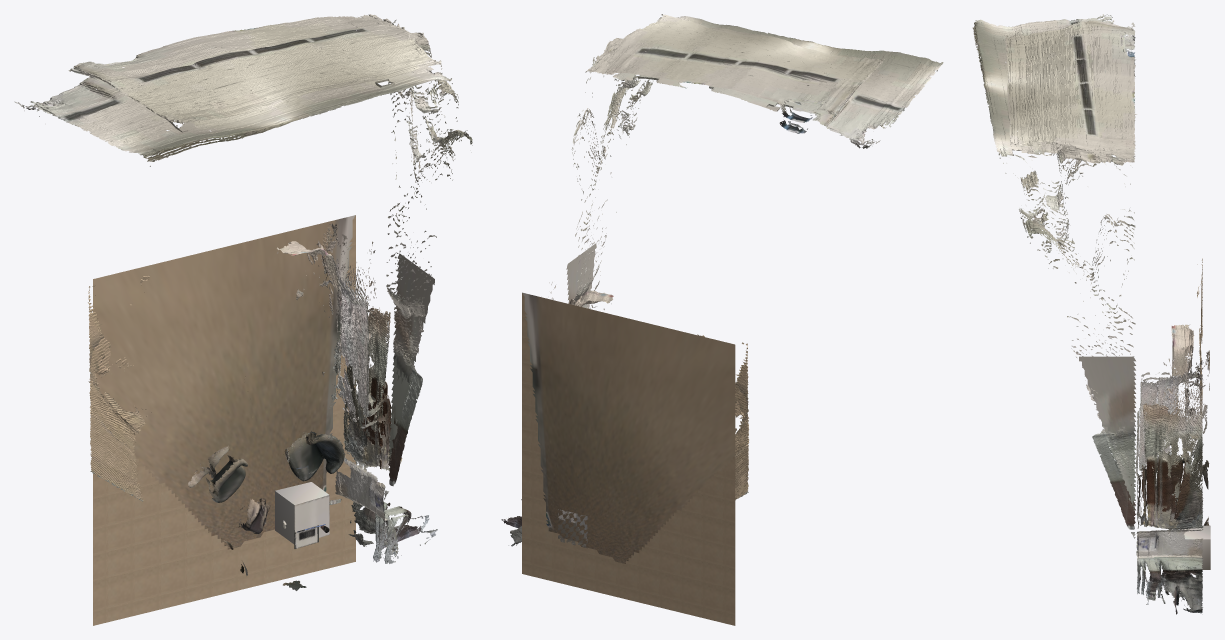
3 views of the same model, side by side, from view 1: azimuth 30°, elevation 25°; view 2: azimuth 150°, elevation 25°; view 3: azimuth 270°, elevation 25° (orthographic). The views are drawn at different scales.
Parts seen in each view (by area): view 1: background_surface, room_from_stills, table_surface, chair_right_surface, chair_left_surface, whiteboard_surface, backpack_surface; view 2: background_surface, room_from_stills, table_surface; view 3: room_from_stills, background_surface, whiteboard_surface, table_surface.
Boxes of the visible parts, left/top/right/bottom form: background_surface: left=88, top=215, right=437, bottom=625; room_from_stills: left=14, top=14, right=472, bottom=499; table_surface: left=275, top=482, right=329, bottom=544; chair_right_surface: left=288, top=431, right=344, bottom=481; chair_left_surface: left=188, top=445, right=247, bottom=502; whiteboard_surface: left=296, top=223, right=389, bottom=421; backpack_surface: left=238, top=498, right=270, bottom=533; background_surface: left=501, top=282, right=748, bottom=625; room_from_stills: left=566, top=14, right=943, bottom=308; table_surface: left=558, top=509, right=587, bottom=548; room_from_stills: left=972, top=14, right=1136, bottom=538; background_surface: left=1136, top=258, right=1203, bottom=614; whiteboard_surface: left=1141, top=350, right=1209, bottom=469; table_surface: left=1180, top=525, right=1210, bottom=569.
Size of the model in its own units: 8.34 by 11.32 by 5.1.
Materials: 2 (2 with a texture image).
